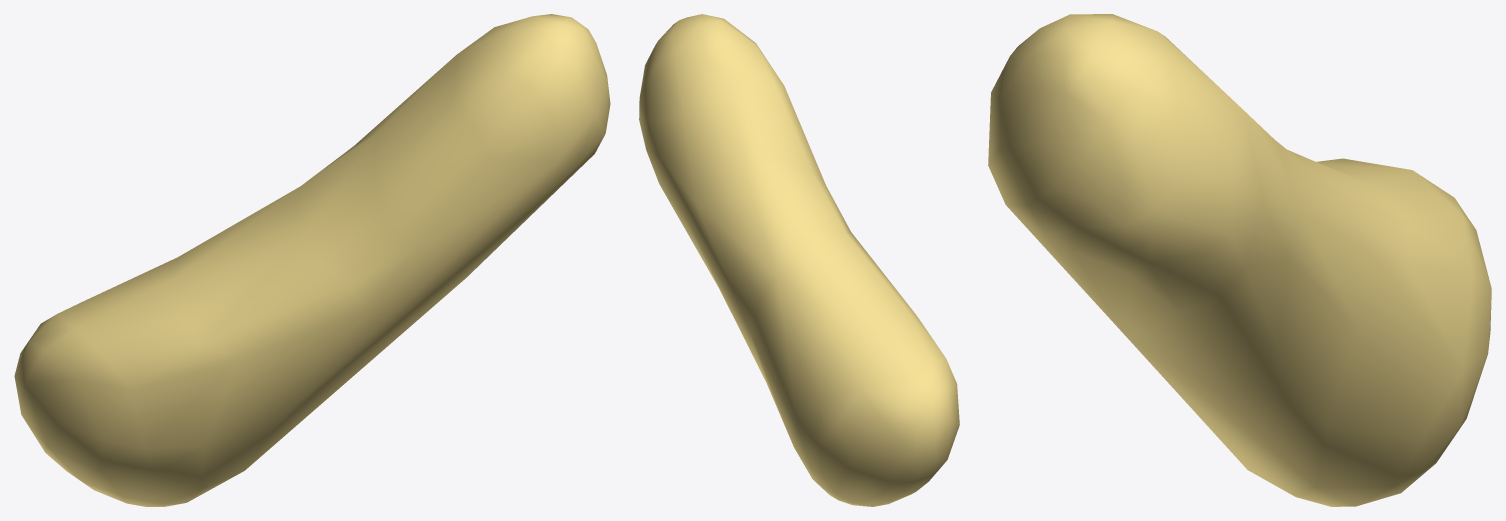
File: fma73464_fj1761.glb
3 views of the same model, side by side, from view 1: azimuth 30°, elevation 25°; view 2: azimuth 150°, elevation 25°; view 3: azimuth 270°, elevation 25° (orthographic). The views are drawn at different scales.
Parts seen in each view (by area): view 1: FMA73464_FJ1761; view 2: FMA73464_FJ1761; view 3: FMA73464_FJ1761.
Part boxes in pixels (left/top/right/bottom): FMA73464_FJ1761: left=14, top=14, right=610, bottom=506; FMA73464_FJ1761: left=639, top=14, right=959, bottom=506; FMA73464_FJ1761: left=988, top=14, right=1491, bottom=506.
Bounding box in the file's own units: 0.0118 × 0.0111 × 0.00746.
